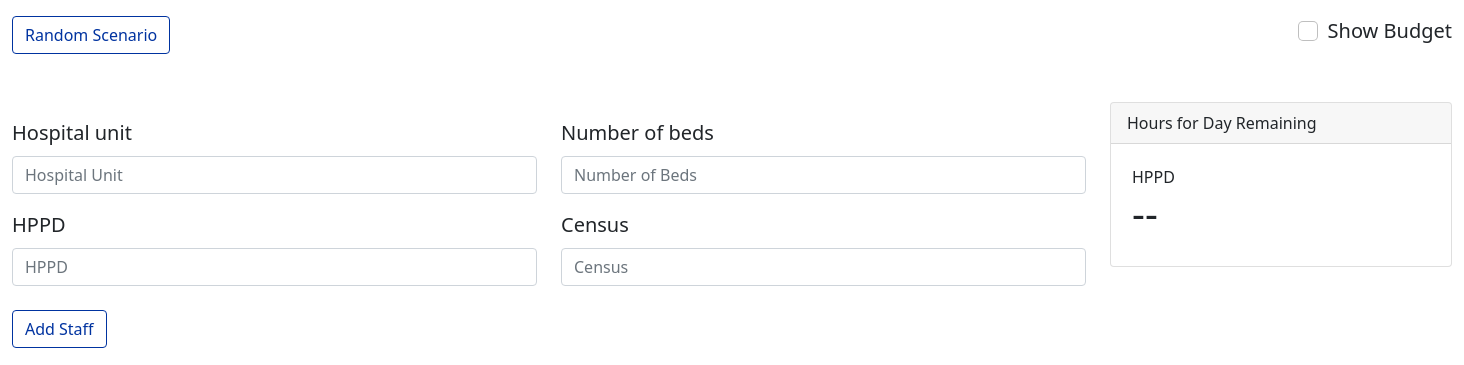
Test: <RandomHPPDInfo /> › Test random button
Expected: the number field with test id "hppd-id" is not empty, [12,248,537,286]
Expected: the field with test id "unit-id" is empty, [12,156,537,194]
Note: click random button
What coordinates should you click on to do the following:
click the button with test id "random-id"
I would click on:
 (91, 35)
Its box is [12,16,170,54].
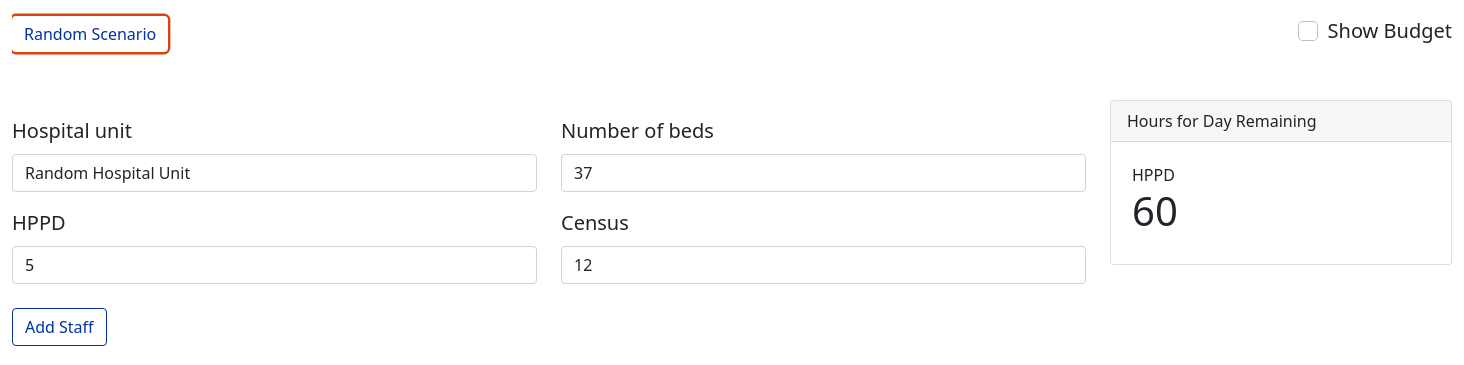
Expected: the field with test id "unit-id" holds "Random Hospital Unit", [12,154,537,192]
